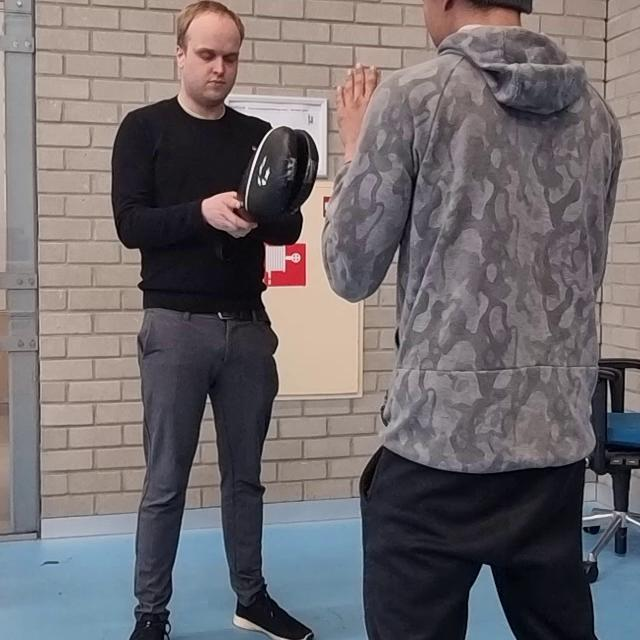paddle: (235, 126, 319, 220)
